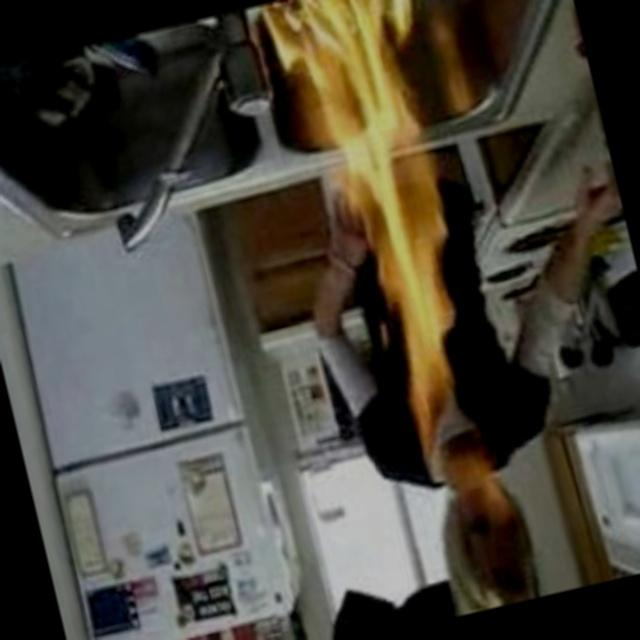fire: (246, 0, 550, 550)
